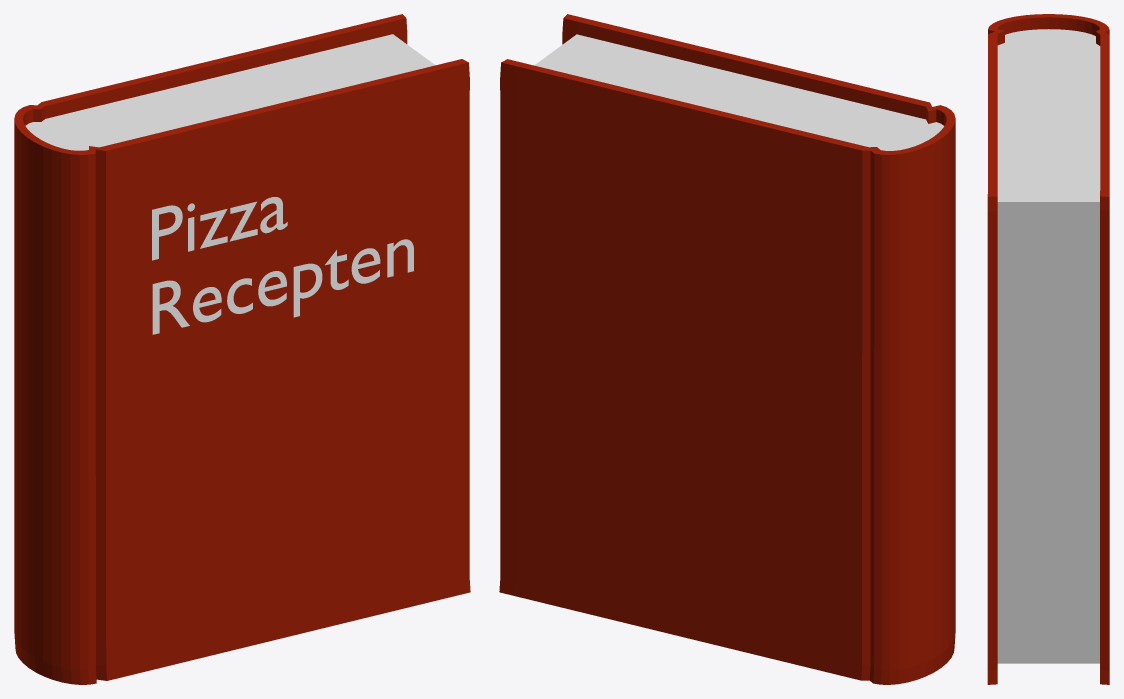
Rendered from boek.dae.
3 renders of one model, left to right at view 1: azimuth 30°, elevation 25°; view 2: azimuth 150°, elevation 25°; view 3: azimuth 270°, elevation 25°, orthographic. The views are drawn at different scales.
Visible parts, largest first — view 1: Kaft, Pagina_s, Text; view 2: Kaft, Pagina_s; view 3: Pagina_s, Kaft.
Boxes of the visible parts, box(x1,y1,x2,y2) form: Kaft: box(14, 14, 470, 684); Pagina_s: box(25, 34, 434, 150); Text: box(152, 197, 413, 334); Kaft: box(499, 14, 955, 684); Pagina_s: box(534, 34, 943, 150); Pagina_s: box(997, 29, 1100, 663); Kaft: box(987, 14, 1109, 684).
Size of the model in its own units: 1.37 by 0.393 by 1.69.
